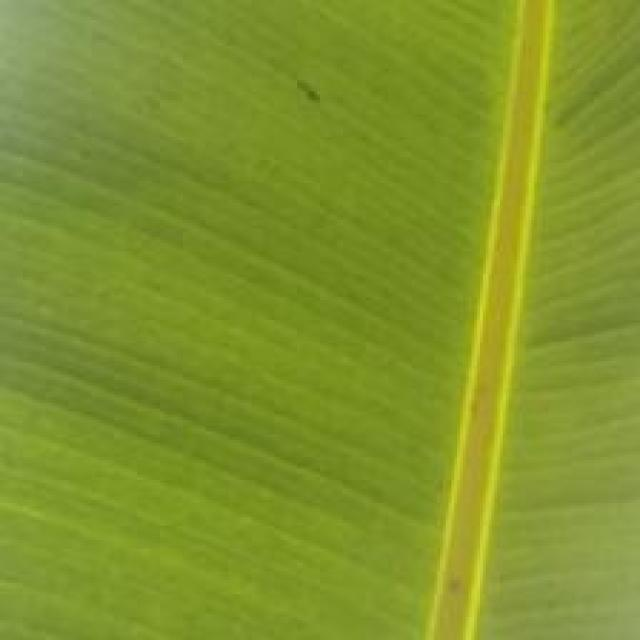Black_leaf_spot: (0, 0, 634, 617)
